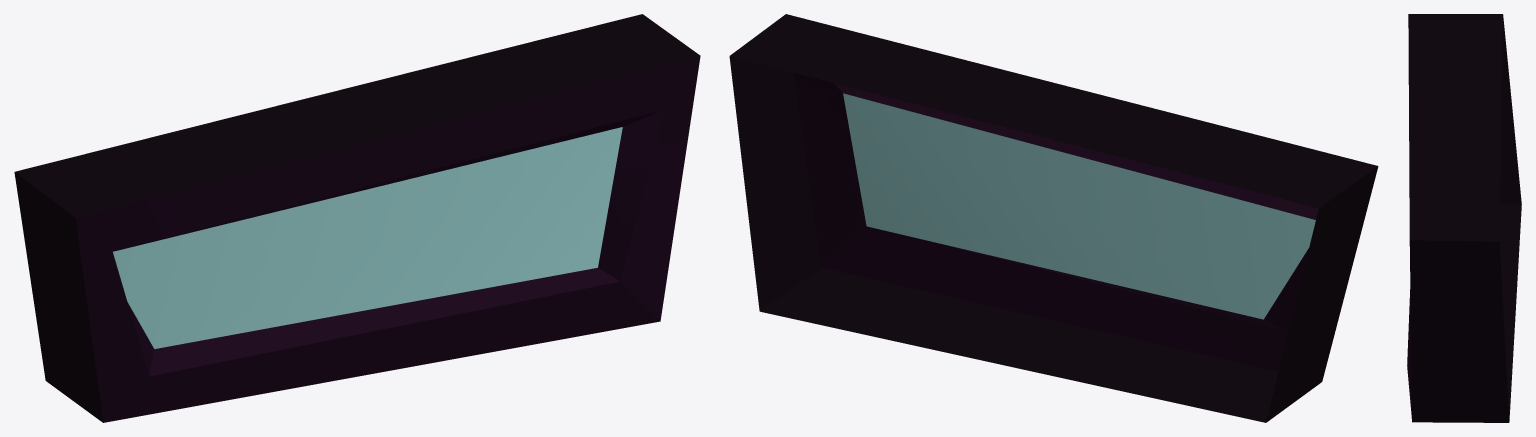
The model's file is c_house_window_rectangle_ab.fbx.
3 renders of one model, left to right at view 1: azimuth 30°, elevation 25°; view 2: azimuth 150°, elevation 25°; view 3: azimuth 270°, elevation 25°, orthographic. The views are drawn at different scales.
Parts seen in each view (by area): view 1: c_house_window_rectangle_ab; view 2: c_house_window_rectangle_ab; view 3: c_house_window_rectangle_ab.
Part boxes in pixels (box(x1,y1,x2,y2)): c_house_window_rectangle_ab: box(14, 14, 700, 422); c_house_window_rectangle_ab: box(729, 14, 1378, 422); c_house_window_rectangle_ab: box(1407, 14, 1521, 422).
Bounding box in the file's own units: 2.93 × 1.15 × 0.608.
